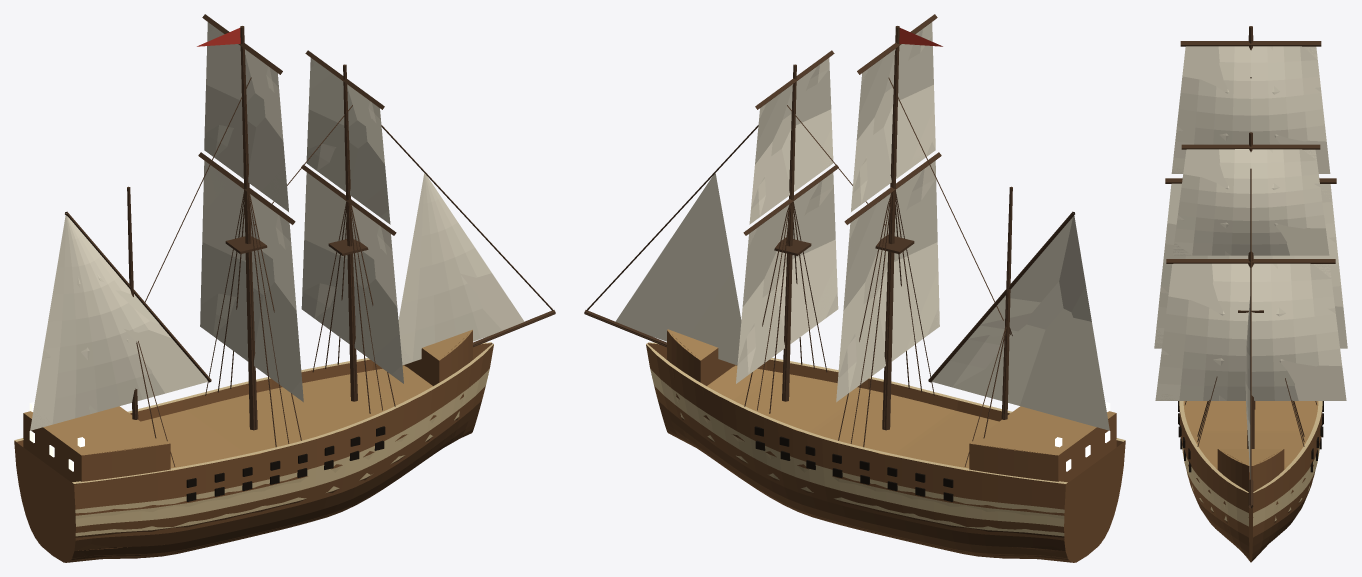
The model's file is caravel.glb.
The picture shows the model from 3 angles, left to right: view 1: azimuth 30°, elevation 25°; view 2: azimuth 150°, elevation 25°; view 3: azimuth 270°, elevation 25°; orthographic projection. The views are drawn at different scales.
Visible parts, largest first — view 1: LOD0_Body, LOD2_Body, LOD2_m1_SquareSail, LOD0_m2_AftSail, LOD2_m0_SquareSail, LOD1_Body, LOD0_m1_SquareSail, LOD1_m1_SquareSail, LOD0_m0_SquareSail, LOD1_m0_SquareSail, LOD1_m2_AftSail, LOD2_m2_AftSail; view 2: LOD0_Body, LOD2_Body, LOD2_m1_SquareSail, LOD2_m0_SquareSail, LOD2_m2_AftSail, LOD1_Body, LOD1_m1_SquareSail, LOD1_m2_AftSail, LOD0_m1_SquareSail, LOD0_m2_AftSail, LOD0_m0_SquareSail, LOD1_m0_SquareSail; view 3: LOD0_m0_SquareSail, LOD0_m1_SquareSail, LOD0_Body, LOD1_m0_SquareSail, LOD2_Body, LOD1_m1_SquareSail, LOD1_Body.
Boxes of the visible parts, x1,y1,x2,y2 form: LOD0_Body: (14, 26, 555, 562); LOD2_Body: (14, 329, 493, 550); LOD2_m1_SquareSail: (200, 23, 303, 401); LOD0_m2_AftSail: (30, 211, 211, 430); LOD2_m0_SquareSail: (302, 73, 399, 358); LOD1_Body: (17, 28, 555, 562); LOD0_m1_SquareSail: (198, 14, 303, 402); LOD1_m1_SquareSail: (203, 24, 302, 401); LOD0_m0_SquareSail: (301, 50, 403, 383); LOD1_m0_SquareSail: (306, 59, 403, 383); LOD1_m2_AftSail: (30, 274, 208, 430); LOD2_m2_AftSail: (31, 329, 206, 429); LOD0_Body: (584, 26, 1125, 562); LOD2_Body: (615, 173, 1125, 553); LOD2_m1_SquareSail: (838, 30, 939, 392); LOD2_m0_SquareSail: (737, 66, 837, 374); LOD2_m2_AftSail: (952, 213, 1109, 428); LOD1_Body: (584, 28, 1122, 562); LOD1_m1_SquareSail: (845, 57, 939, 351); LOD1_m2_AftSail: (969, 282, 1108, 430); LOD0_m1_SquareSail: (836, 14, 941, 402); LOD0_m2_AftSail: (928, 211, 1109, 430); LOD0_m0_SquareSail: (736, 50, 838, 383); LOD1_m0_SquareSail: (756, 93, 837, 333); LOD0_m0_SquareSail: (1155, 144, 1342, 400); LOD0_m1_SquareSail: (1154, 41, 1343, 348); LOD0_Body: (1178, 26, 1323, 562); LOD1_m0_SquareSail: (1156, 149, 1346, 400); LOD2_Body: (1182, 401, 1319, 560); LOD1_m1_SquareSail: (1154, 46, 1347, 348); LOD1_Body: (1182, 35, 1319, 561).
Bounding box in the file's own units: 32.55 × 29.5 × 11.14.
Materials: 2 (1 with a texture image).
